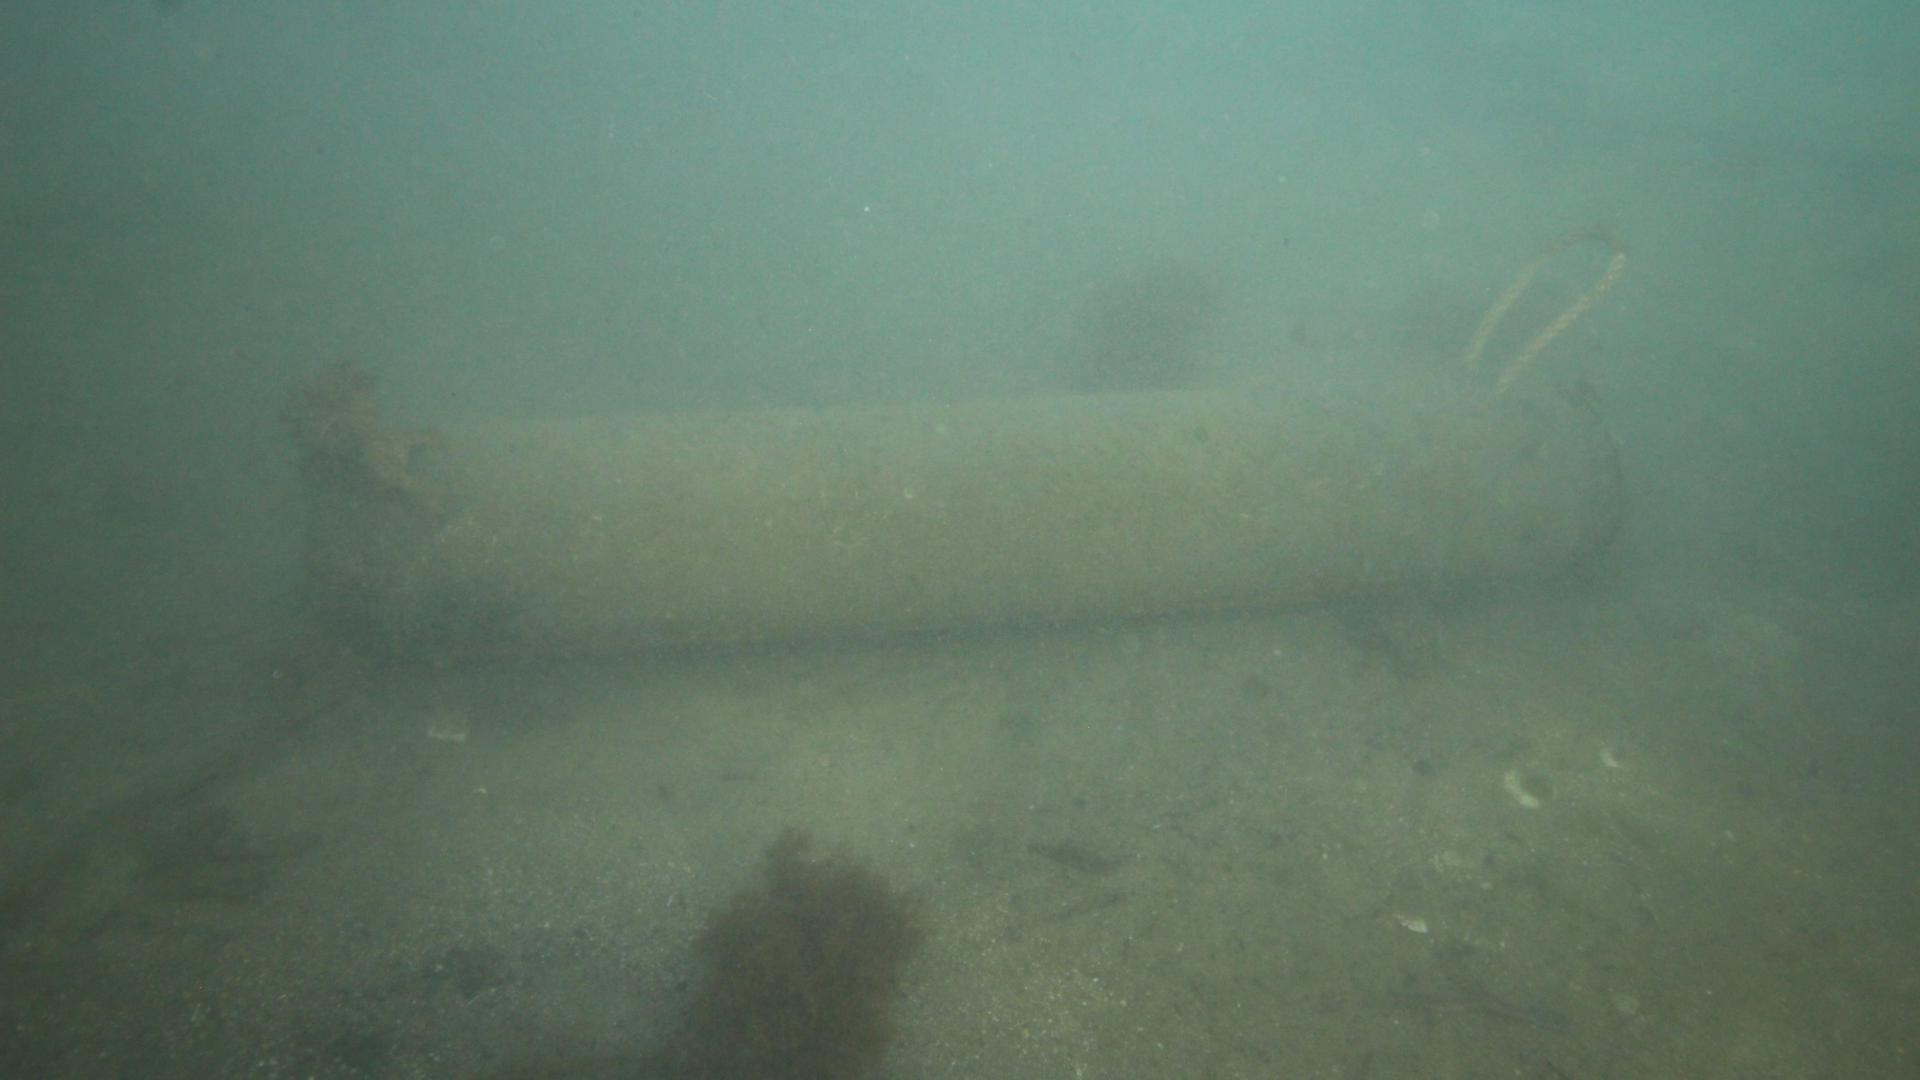eel fish trap: (306, 382, 1625, 667)
rope: (1462, 222, 1626, 389)
